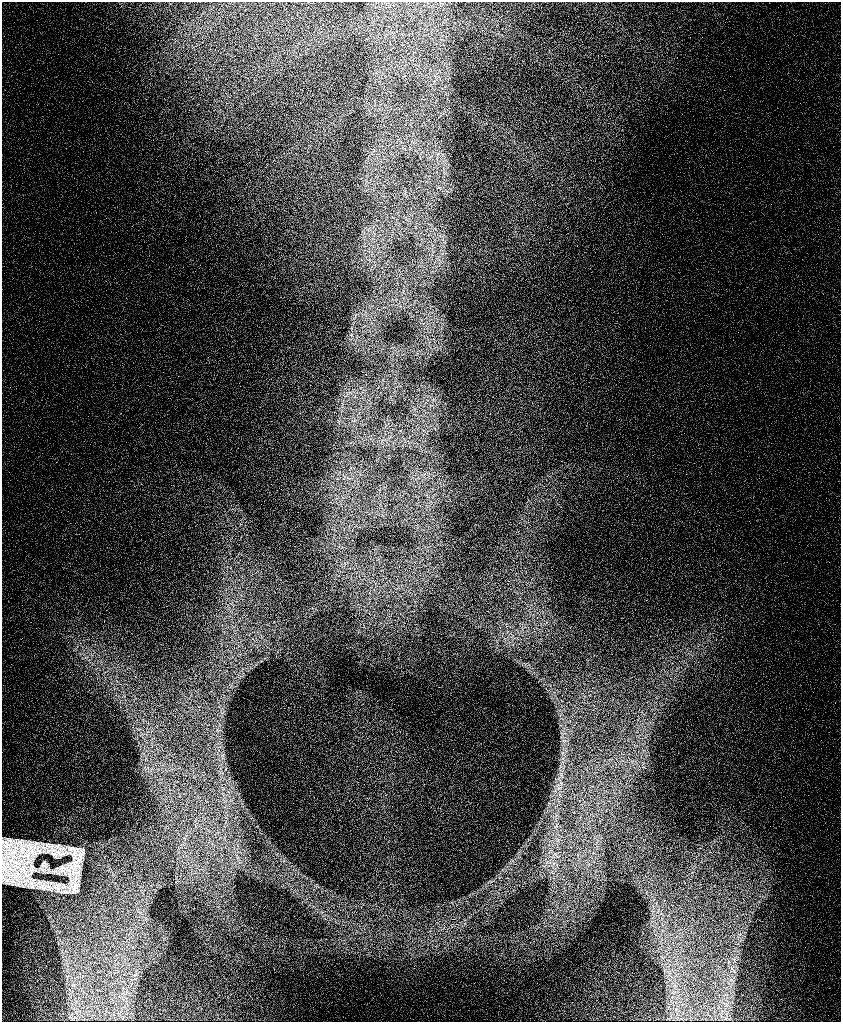lumbar scoliosis: (315, 230, 457, 595)
